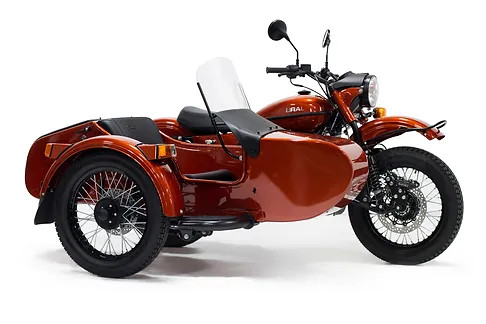bike: (24, 19, 465, 279)
